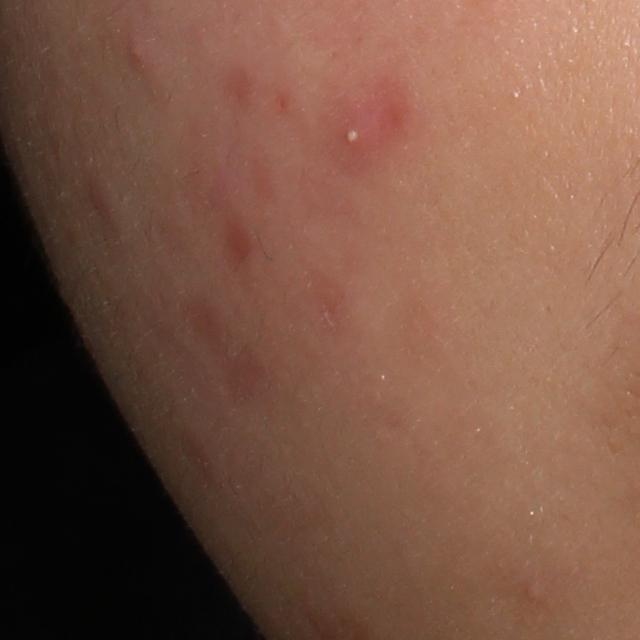papule: (218, 212, 261, 272), (128, 31, 154, 73)
pustule: (336, 112, 382, 160)
